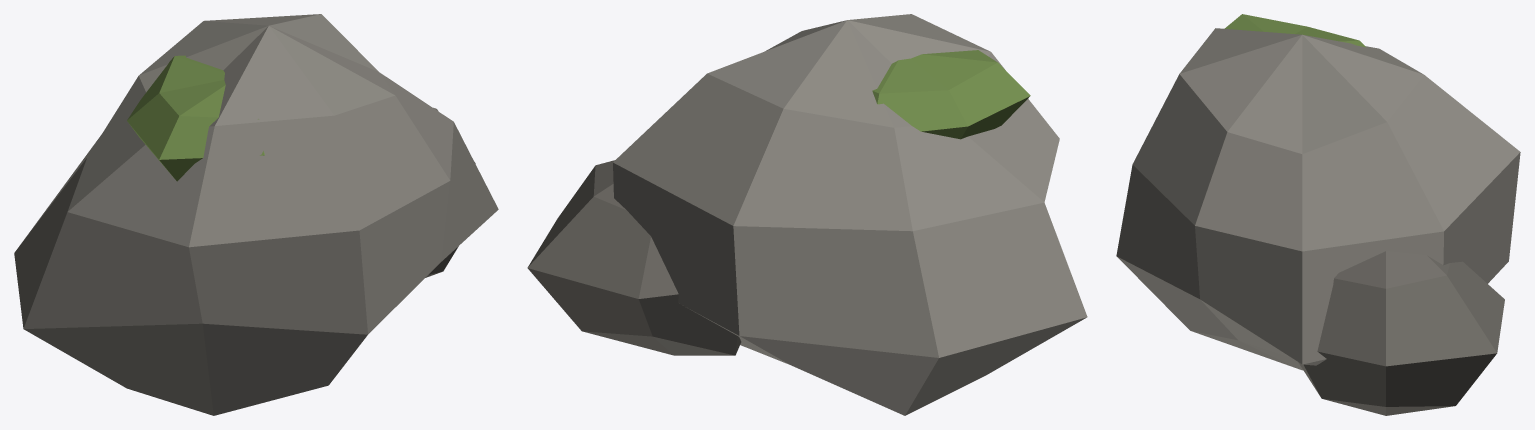
File: rock_a.glb
3 renders of one model, left to right at view 1: azimuth 30°, elevation 25°; view 2: azimuth 150°, elevation 25°; view 3: azimuth 270°, elevation 25°, orthographic. The views are drawn at different scales.
Parts seen in each view (by area): view 1: rock_a; view 2: rock_a; view 3: rock_a.
Part boxes in pixels (<box>): rock_a: <box>14,14,498,415</box>; rock_a: <box>527,14,1087,415</box>; rock_a: <box>1116,14,1520,415</box>.
Size of the model in its own units: 2.25 by 1.55 by 1.69.
